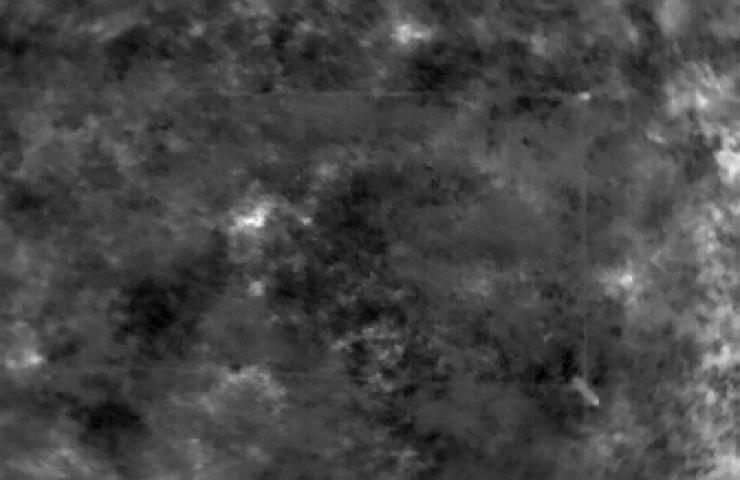landmines: (240, 206, 271, 231)
